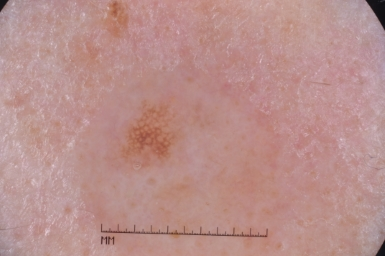seborrheic keratosis: (91, 67, 210, 191)
